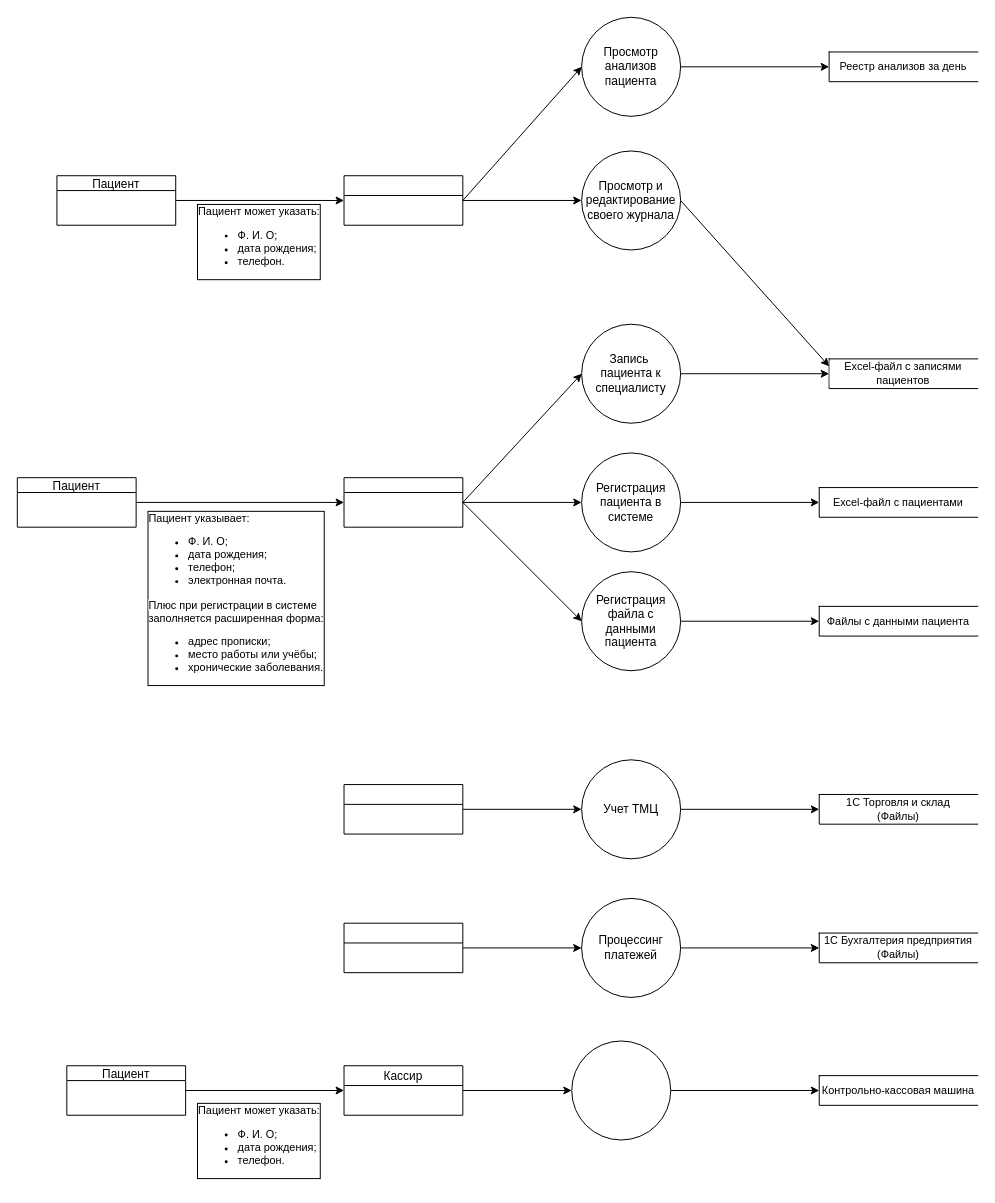
The diagram is 995 pixels wide and 1203 high, and some of its shapes have lost their labels. The shapes that lost their labels are listed below. From the top down, each one's centre as x and y in pixels, then its label:
pixel 403 200: Доктор
pixel 403 502: Администратор
pixel 403 809: Сотрудник склада
pixel 403 947: Бухгалтер
pixel 621 1090: Принятие оплаты
